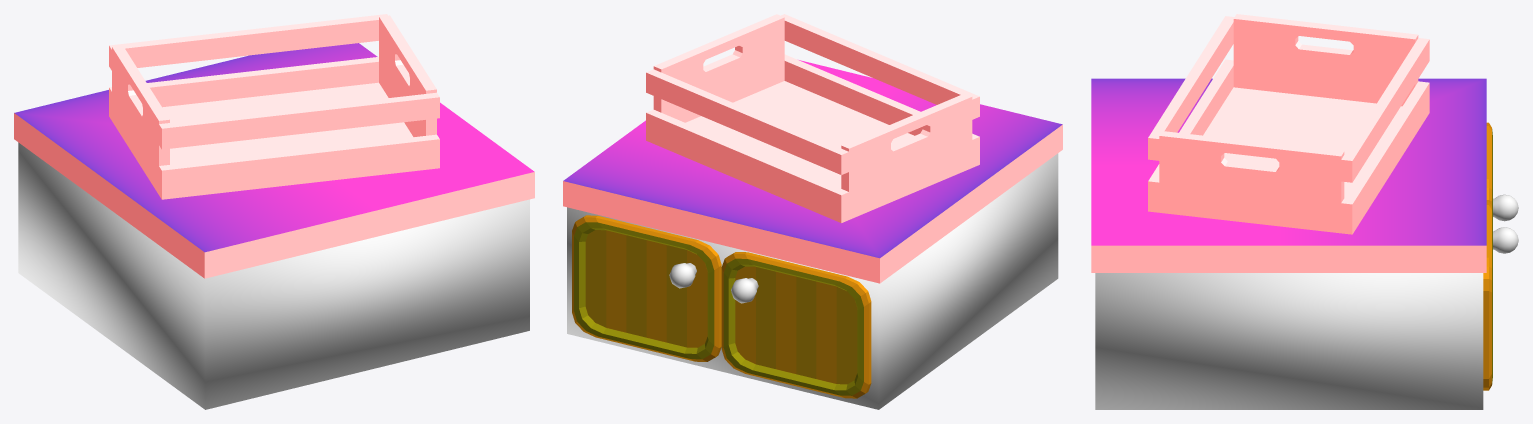
Rendered from Block.fbx.
3 renders of one model, left to right at view 1: azimuth 30°, elevation 25°; view 2: azimuth 150°, elevation 25°; view 3: azimuth 270°, elevation 25°, orthographic. The views are drawn at different scales.
Visible parts, largest first — view 1: Counter, Cube, Counter_Surface, Counter_Top; view 2: Cube, Counter_Doors, Counter, Counter_Surface, Counter_Top, Handles; view 3: Counter, Cube, Counter_Surface, Counter_Top, Counter_Doors, Handles.
Boxes of the visible parts, left/top/right/bottom form: Counter: left=18, top=142, right=529, bottom=409; Cube: left=109, top=14, right=439, bottom=199; Counter_Surface: left=14, top=43, right=534, bottom=252; Counter_Top: left=14, top=113, right=534, bottom=278; Cube: left=646, top=14, right=979, bottom=222; Counter_Doors: left=572, top=215, right=871, bottom=398; Counter: left=567, top=153, right=1058, bottom=409; Counter_Surface: left=563, top=60, right=1062, bottom=258; Counter_Top: left=563, top=124, right=1062, bottom=283; Handles: left=669, top=263, right=758, bottom=303; Counter: left=1095, top=273, right=1483, bottom=409; Cube: left=1148, top=14, right=1429, bottom=234; Counter_Surface: left=1091, top=78, right=1486, bottom=245; Counter_Top: left=1091, top=245, right=1486, bottom=272; Counter_Doors: left=1483, top=122, right=1492, bottom=390; Handles: left=1493, top=194, right=1518, bottom=253.
Bounding box in the file's own units: 100 × 67.72 × 108.
